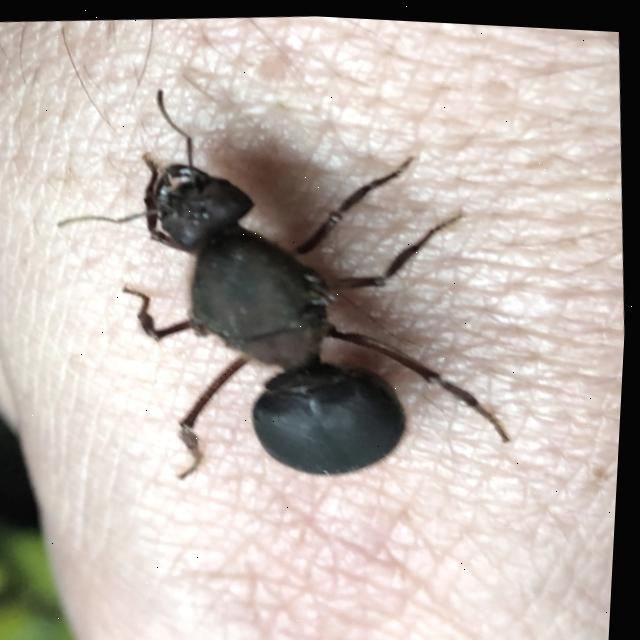Alive-Female-Dealate: (38, 58, 531, 501)
